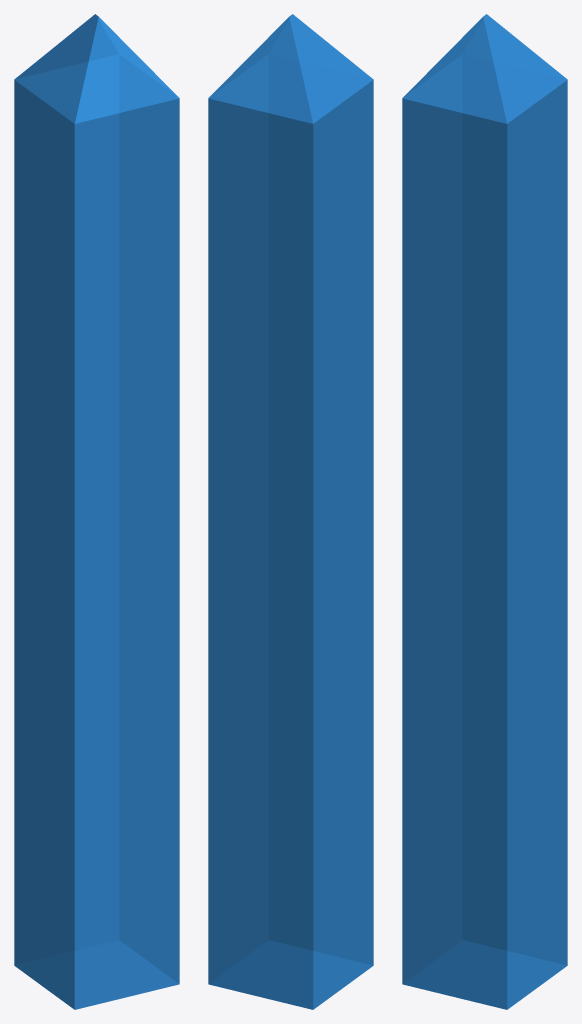
The model's file is generalCrystal.glb.
3 views of the same model, side by side, from view 1: azimuth 30°, elevation 25°; view 2: azimuth 150°, elevation 25°; view 3: azimuth 330°, elevation 25° (orthographic).
Parts seen in each view (by area): view 1: Cube; view 2: Cube; view 3: Cube.
Boxes of the visible parts, x1=… form: Cube: x1=14, y1=14, x2=179, y2=1009; Cube: x1=208, y1=14, x2=373, y2=1009; Cube: x1=402, y1=14, x2=567, y2=1009.
Bounding box in the file's own units: 2 × 17.46 × 2.
